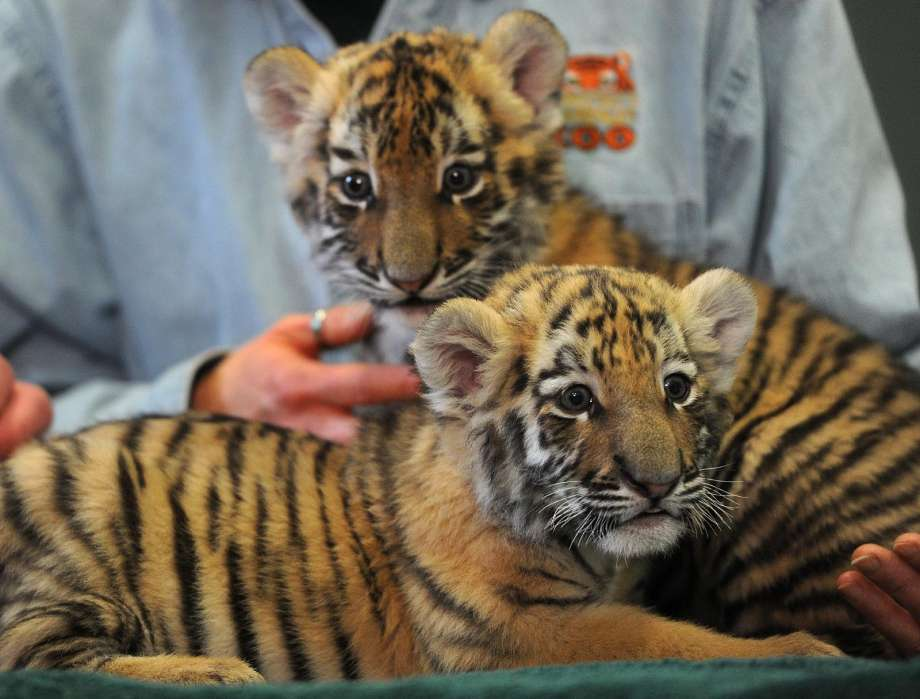Tiger: (58, 272, 757, 699), (240, 18, 830, 321)
